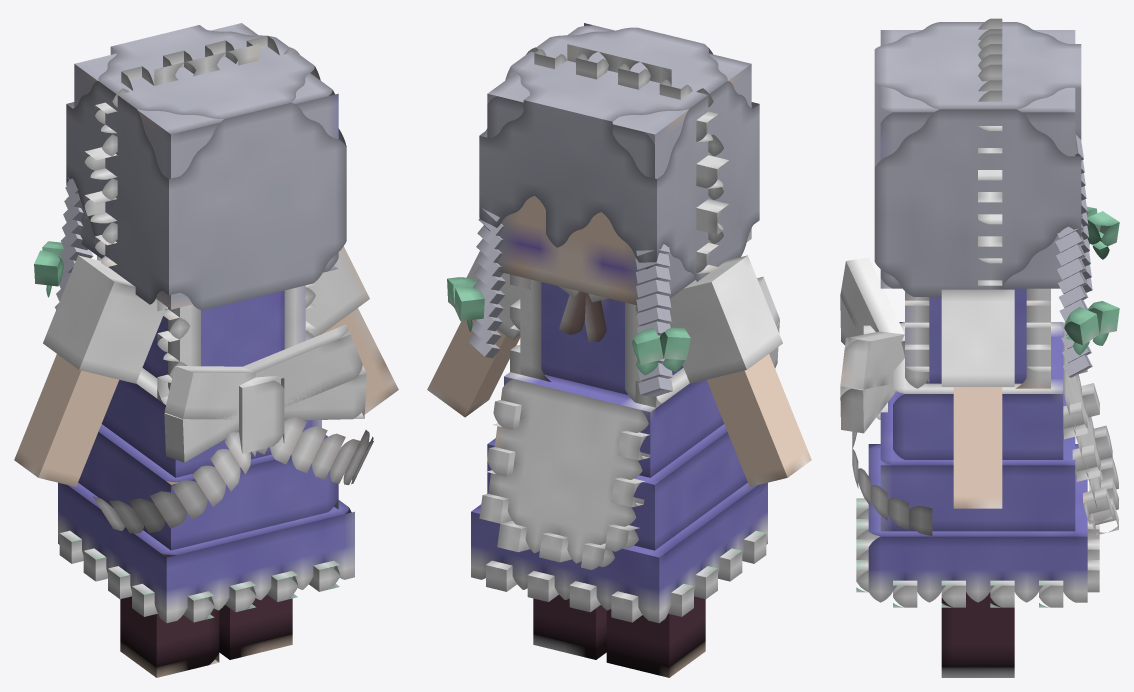
File: izayoi_sakuya.obj
The picture shows the model from 3 angles, left to right: view 1: azimuth 30°, elevation 25°; view 2: azimuth 150°, elevation 25°; view 3: azimuth 270°, elevation 25°; orthographic projection.
Parts seen in each view (by area): view 1: head, sittingRotationSkirt, armLeft, body, headles, les2, legLeft, armRight, bone12, bone15, legRight, bone13 (+15 smaller); view 2: head, sittingRotationSkirt, apron, armLeft, blink, body, headles, les2, armRight, legLeft, legRight, headbone2 (+7 smaller); view 3: head, sittingRotationSkirt, armRight, body, legRight, apron, les2, headles, bone15, headbone, bone12, bone13 (+9 smaller).
Boxes of the visible parts, x1,y1,x2,y2 form: head: (66, 23, 346, 310); sittingRotationSkirt: (58, 368, 354, 623); armLeft: (14, 255, 165, 486); body: (142, 285, 305, 390); headles: (84, 35, 299, 266); les2: (59, 530, 339, 622); legLeft: (120, 481, 219, 677); armRight: (305, 246, 398, 414); bone12: (243, 324, 366, 406); bone15: (164, 366, 255, 419); legRight: (219, 595, 292, 659); bone13: (274, 368, 366, 420); head: (479, 23, 759, 298); sittingRotationSkirt: (471, 368, 767, 623); apron: (479, 379, 650, 569); armLeft: (666, 255, 811, 486); blink: (487, 96, 654, 305); body: (520, 277, 683, 404); headles: (526, 44, 728, 273); les2: (486, 530, 766, 622); armRight: (427, 251, 520, 417); legLeft: (606, 596, 705, 677); legRight: (533, 595, 606, 659); headbone2: (635, 244, 673, 397); head: (874, 22, 1081, 296); sittingRotationSkirt: (868, 322, 1087, 602); armRight: (941, 289, 1014, 508); body: (905, 288, 1050, 388); legRight: (941, 592, 1014, 677); apron: (1063, 331, 1118, 535); les2: (856, 498, 1099, 607); headles: (978, 18, 1002, 285); bone15: (840, 257, 904, 356); headbone: (1055, 223, 1092, 377); bone12: (840, 331, 904, 389); bone13: (840, 340, 904, 433).
Size of the model in its own units: 1.08 by 1.69 by 0.7181.
1 material, 1 textured.
